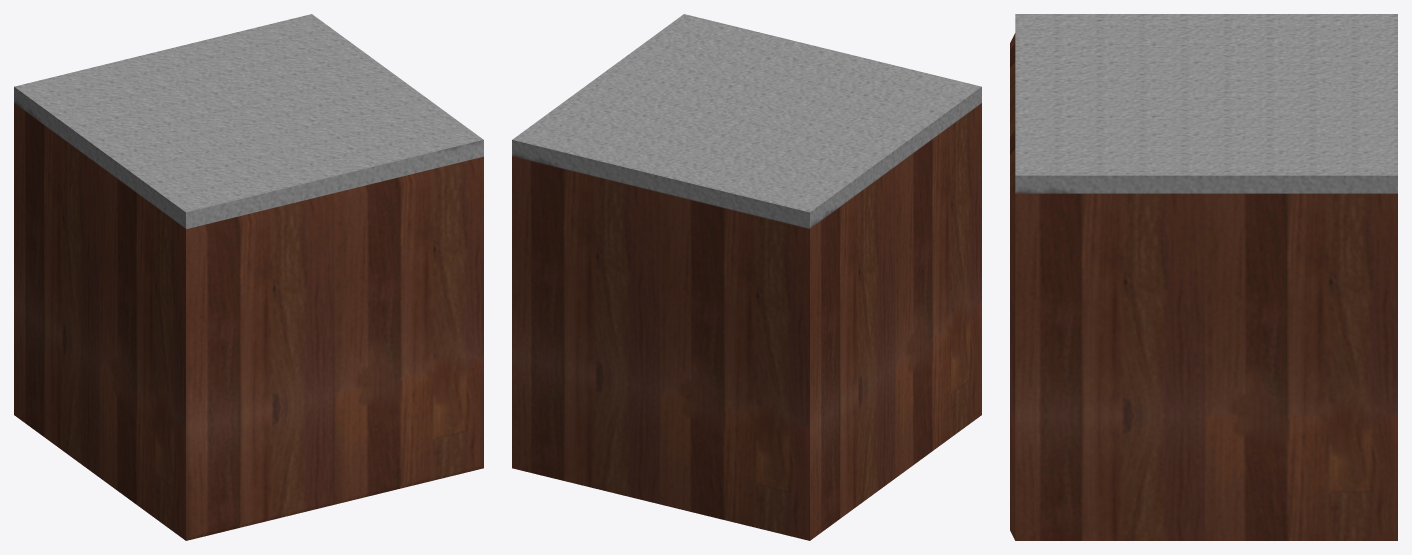
File: counterFBX.fbx
The picture shows the model from 3 angles, left to right: view 1: azimuth 30°, elevation 25°; view 2: azimuth 150°, elevation 25°; view 3: azimuth 270°, elevation 25°; orthographic projection. The views are drawn at different scales.
Parts seen in each view (by area): view 1: pCube1; view 2: pCube1; view 3: pCube1.
Boxes of the visible parts, left/top/right/bottom form: pCube1: left=14, top=14, right=483, bottom=540; pCube1: left=512, top=14, right=981, bottom=540; pCube1: left=1010, top=14, right=1397, bottom=540.
Bounding box in the file's own units: 3.4 × 3.59 × 3.45.
Materials: 1 (1 with a texture image).
